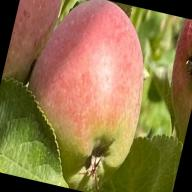Apples: (8, 0, 163, 192), (2, 0, 64, 88), (156, 17, 192, 136)
